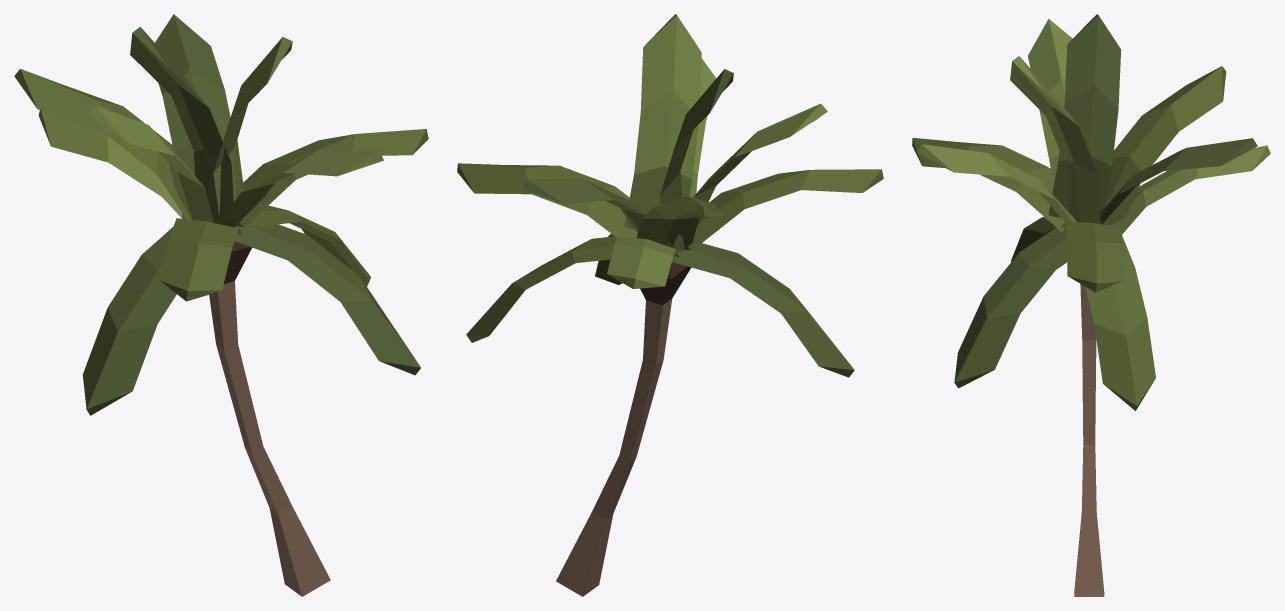
The model's file is Tree Type7 02.glb.
The picture shows the model from 3 angles, left to right: view 1: azimuth 30°, elevation 25°; view 2: azimuth 150°, elevation 25°; view 3: azimuth 270°, elevation 25°; orthographic projection. The views are drawn at different scales.
Parts seen in each view (by area): view 1: Tree_Type7_02_mesh; view 2: Tree_Type7_02_mesh; view 3: Tree_Type7_02_mesh.
Part boxes in pixels (bbox=[...]): Tree_Type7_02_mesh: bbox=[14, 14, 428, 596]; Tree_Type7_02_mesh: bbox=[457, 14, 883, 596]; Tree_Type7_02_mesh: bbox=[912, 14, 1270, 596].
Size of the model in its own units: 2.95 by 4.4 by 2.77.
Materials: 1 (1 with a texture image).
